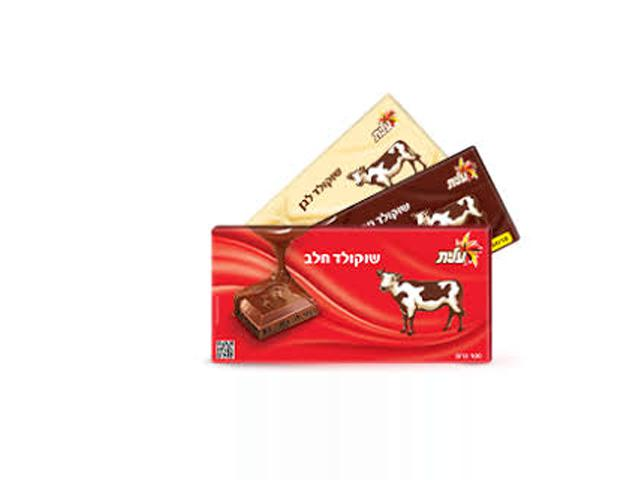chocolate: (218, 89, 478, 250)
